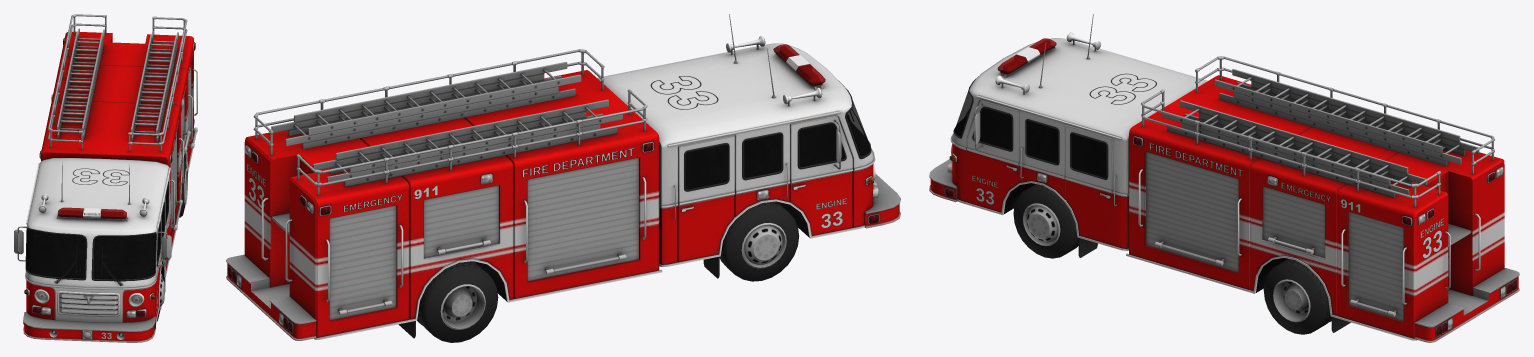
Rendered from cs_fire_truck.glb.
3 renders of one model, left to right at view 1: azimuth 30°, elevation 25°; view 2: azimuth 150°, elevation 25°; view 3: azimuth 270°, elevation 25°, orthographic. The views are drawn at different scales.
Parts seen in each view (by area): view 1: fire_truck; view 2: fire_truck; view 3: fire_truck.
Boxes of the visible parts, left/top/right/bottom form: fire_truck: left=14, top=14, right=197, bottom=342; fire_truck: left=226, top=14, right=900, bottom=342; fire_truck: left=929, top=14, right=1519, bottom=342.
Size of the model in its own units: 6.37 by 2.93 by 7.89.
Materials: 5 (5 with a texture image).
